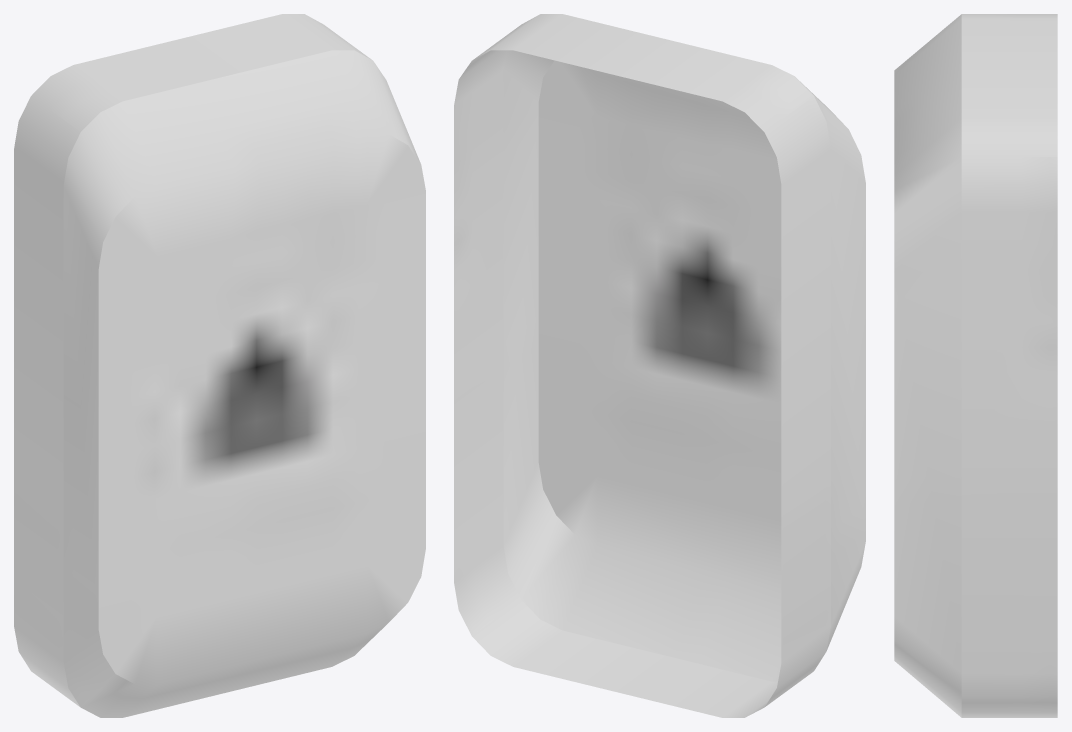
The model's file is dock_btn.glb.
3 renders of one model, left to right at view 1: azimuth 30°, elevation 25°; view 2: azimuth 150°, elevation 25°; view 3: azimuth 270°, elevation 25°, orthographic. The views are drawn at different scales.
Parts seen in each view (by area): view 1: dock_btn; view 2: dock_btn; view 3: dock_btn.
Boxes of the visible parts, x1,y1,x2,y2 form: dock_btn: (14, 14, 425, 717); dock_btn: (454, 14, 865, 717); dock_btn: (894, 14, 1057, 717).
Size of the model in its own units: 0.007 by 0.0126 by 0.00313.
Materials: 1 (1 with a texture image).
